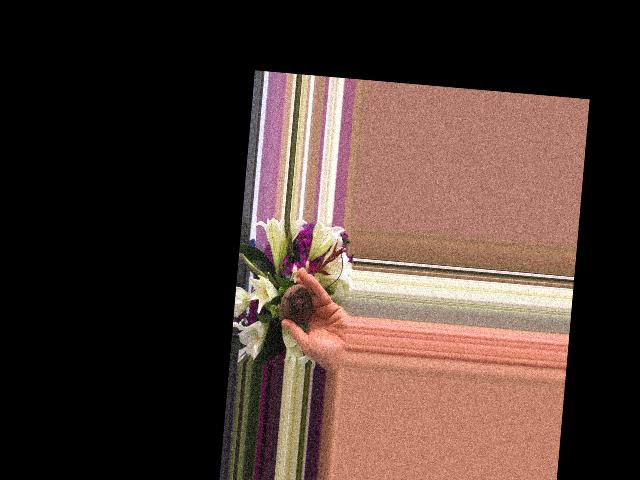beet: (279, 281, 315, 324)
